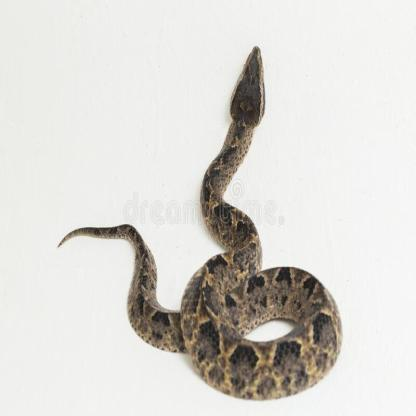snakes: (54, 47, 358, 396)
